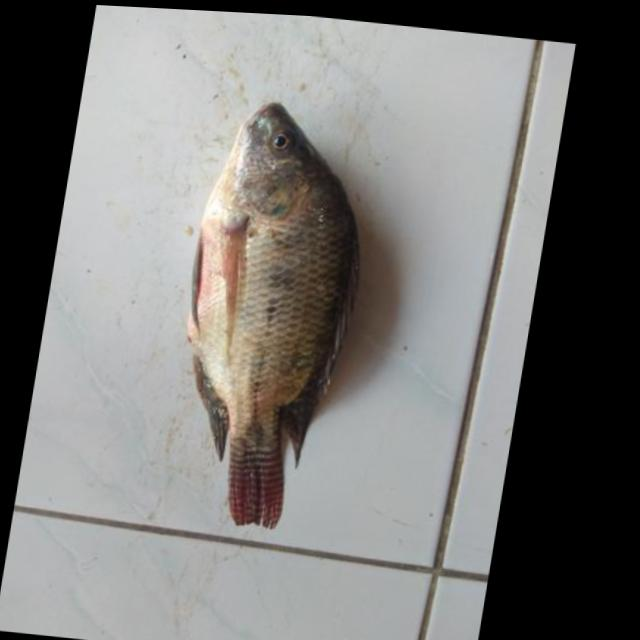Tilapia: (147, 97, 388, 538)
